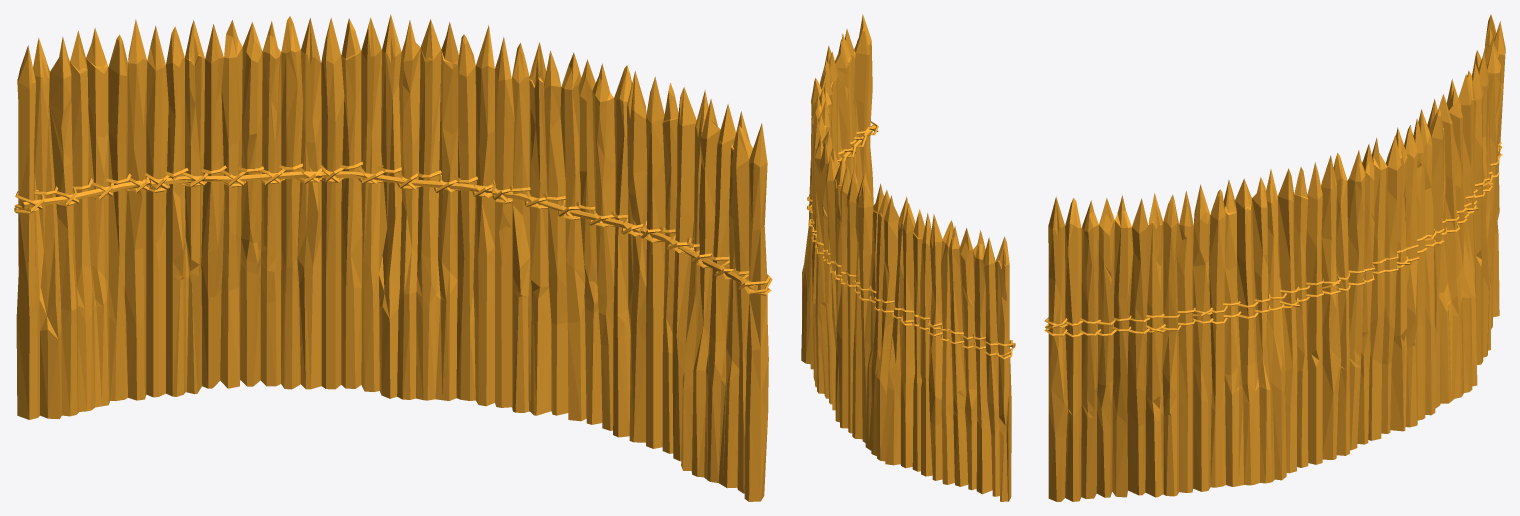
Rendered from SM_Palisade_Corner_Round_9x9_Convex_A.fbx.
3 views of the same model, side by side, from view 1: azimuth 30°, elevation 25°; view 2: azimuth 150°, elevation 25°; view 3: azimuth 270°, elevation 25° (orthographic). The views are drawn at different scales.
Parts seen in each view (by area): view 1: palisade-corner-round-9x9-convex-a; view 2: palisade-corner-round-9x9-convex-a; view 3: palisade-corner-round-9x9-convex-a.
Boxes of the visible parts, x1=… form: palisade-corner-round-9x9-convex-a: x1=14, y1=14, x2=772, y2=501; palisade-corner-round-9x9-convex-a: x1=801, y1=14, x2=1015, y2=501; palisade-corner-round-9x9-convex-a: x1=1044, y1=14, x2=1505, y2=501.
Size of the model in its own units: 9.35 by 6.85 by 9.41.
